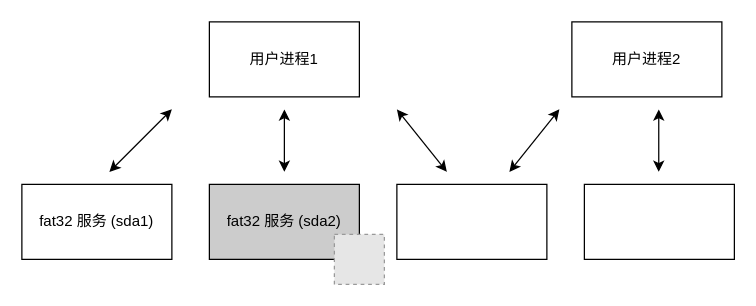
Image size: 756x306. Some labels were removed from this diagram. Grey dashed boxes stand in for pictures. The shapes that lost their labels are listed below. From the top down, each one's box as (x1, y1, x2, y2) in pixels, then its label:
(396, 183, 547, 259): ext4 服务 (sda3)
(583, 183, 734, 259): ext4 服务 (sda4)
